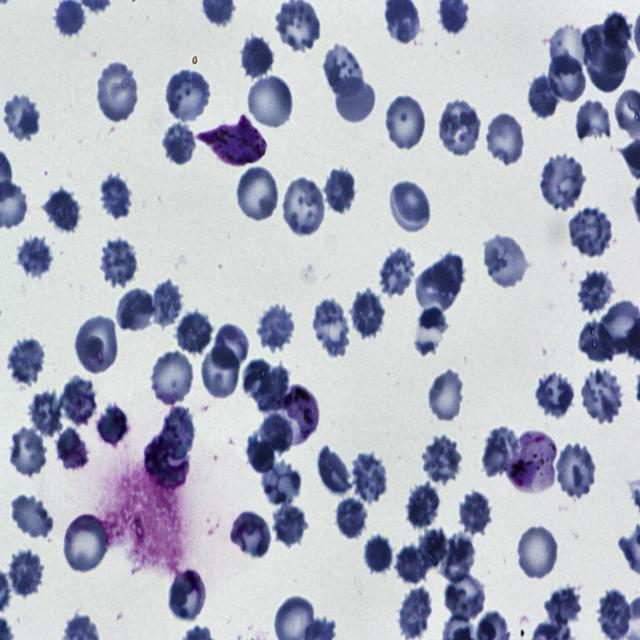gametocyte: (195, 115, 268, 166)
red blood cell: (538, 150, 587, 213), (94, 59, 140, 124), (280, 175, 327, 238), (246, 72, 295, 130), (418, 253, 464, 314), (142, 434, 191, 491), (552, 440, 597, 502), (437, 96, 482, 158), (148, 348, 196, 406), (74, 313, 119, 374), (62, 514, 108, 572), (482, 232, 528, 290), (201, 338, 244, 400), (582, 22, 634, 73), (164, 68, 212, 123), (384, 92, 427, 152), (236, 165, 280, 223), (516, 524, 560, 582), (387, 178, 432, 234), (585, 34, 629, 91), (580, 366, 623, 424), (485, 110, 527, 167), (276, 0, 322, 52), (311, 296, 350, 357), (322, 42, 363, 99), (548, 25, 594, 75), (569, 206, 614, 257), (246, 360, 289, 413), (546, 51, 587, 106), (96, 237, 140, 288), (574, 265, 618, 316), (378, 245, 419, 299), (420, 436, 464, 486), (168, 567, 208, 622), (5, 337, 48, 387), (533, 372, 576, 422), (482, 427, 520, 483), (350, 452, 390, 504), (158, 406, 196, 460), (442, 574, 486, 620), (10, 494, 54, 540), (315, 446, 353, 499), (116, 286, 156, 336), (9, 426, 47, 477), (334, 77, 376, 123), (262, 458, 302, 506), (7, 548, 45, 598), (348, 288, 386, 338), (428, 368, 463, 422), (577, 318, 618, 364), (175, 309, 215, 356), (2, 93, 40, 142), (239, 32, 276, 82), (256, 305, 296, 351), (14, 232, 54, 278), (271, 501, 309, 549), (439, 534, 477, 582), (231, 511, 270, 557), (212, 322, 250, 369), (96, 175, 133, 222), (44, 187, 81, 234), (323, 166, 357, 217), (399, 586, 433, 637), (332, 494, 369, 540), (28, 391, 64, 438), (161, 120, 197, 166), (526, 72, 561, 119), (544, 585, 582, 628), (61, 379, 97, 424), (151, 278, 183, 328), (408, 482, 440, 531), (55, 427, 89, 472), (460, 487, 492, 534), (257, 414, 294, 454), (362, 534, 396, 576), (95, 404, 128, 447), (574, 101, 610, 140), (601, 9, 633, 52), (416, 527, 448, 570), (395, 545, 428, 585), (246, 432, 277, 473)
trophozoite: (507, 430, 558, 497), (274, 384, 320, 446)
